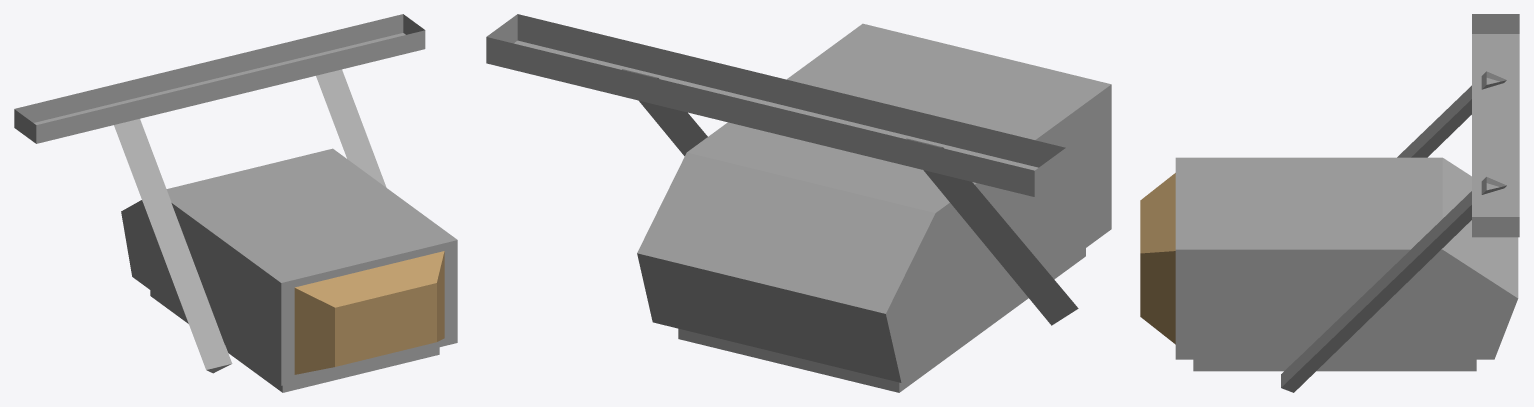
File: doorMotor.fbx
3 renders of one model, left to right at view 1: azimuth 30°, elevation 25°; view 2: azimuth 150°, elevation 25°; view 3: azimuth 270°, elevation 25°, orthographic. The views are drawn at different scales.
Parts seen in each view (by area): view 1: doorMotor; view 2: doorMotor; view 3: doorMotor.
Part boxes in pixels (left/top/right/bottom): doorMotor: left=14, top=14, right=457, bottom=392; doorMotor: left=486, top=14, right=1111, bottom=392; doorMotor: left=1140, top=14, right=1519, bottom=392.
Size of the model in its own units: 0.7528 by 0.3884 by 0.5939.
